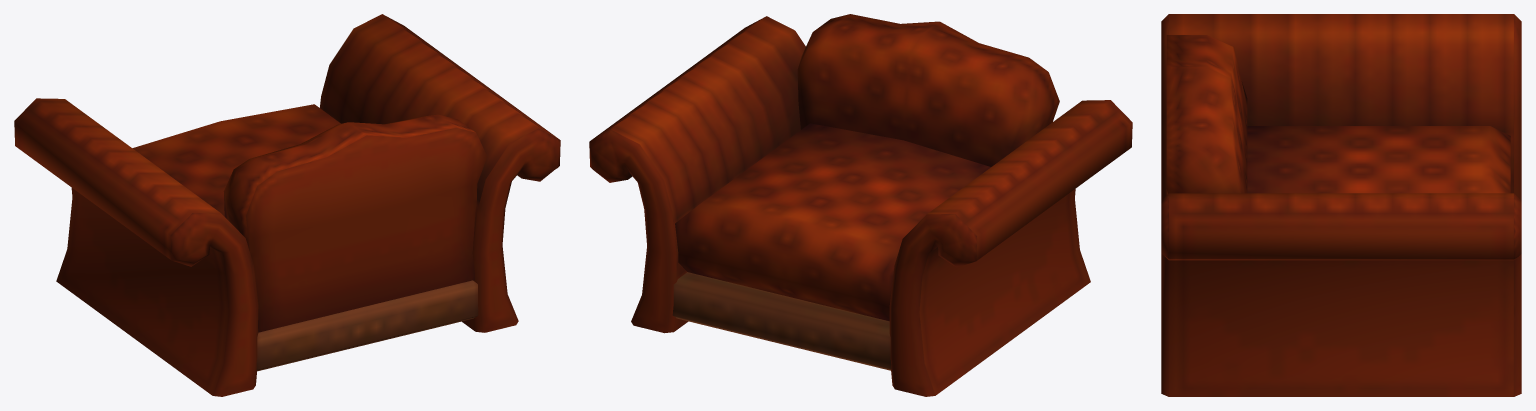
The model's file is Sofa_03a.gltf.
The picture shows the model from 3 angles, left to right: view 1: azimuth 30°, elevation 25°; view 2: azimuth 150°, elevation 25°; view 3: azimuth 270°, elevation 25°; orthographic projection. The views are drawn at different scales.
Parts seen in each view (by area): view 1: Sofa_03a; view 2: Sofa_03a; view 3: Sofa_03a.
Boxes of the visible parts, x1=… form: Sofa_03a: x1=14, y1=14, x2=560, y2=396; Sofa_03a: x1=589, y1=14, x2=1132, y2=396; Sofa_03a: x1=1161, y1=14, x2=1521, y2=396.
Bounding box in the file's own units: 48.34 × 26.52 × 35.08.
1 material, 1 textured.
